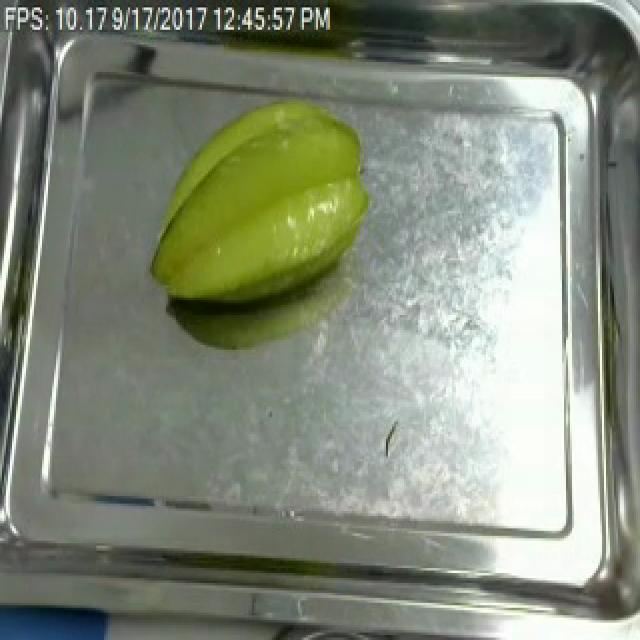fruit: (134, 85, 382, 318)
